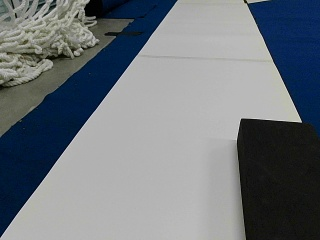block: (239, 117, 319, 238)
